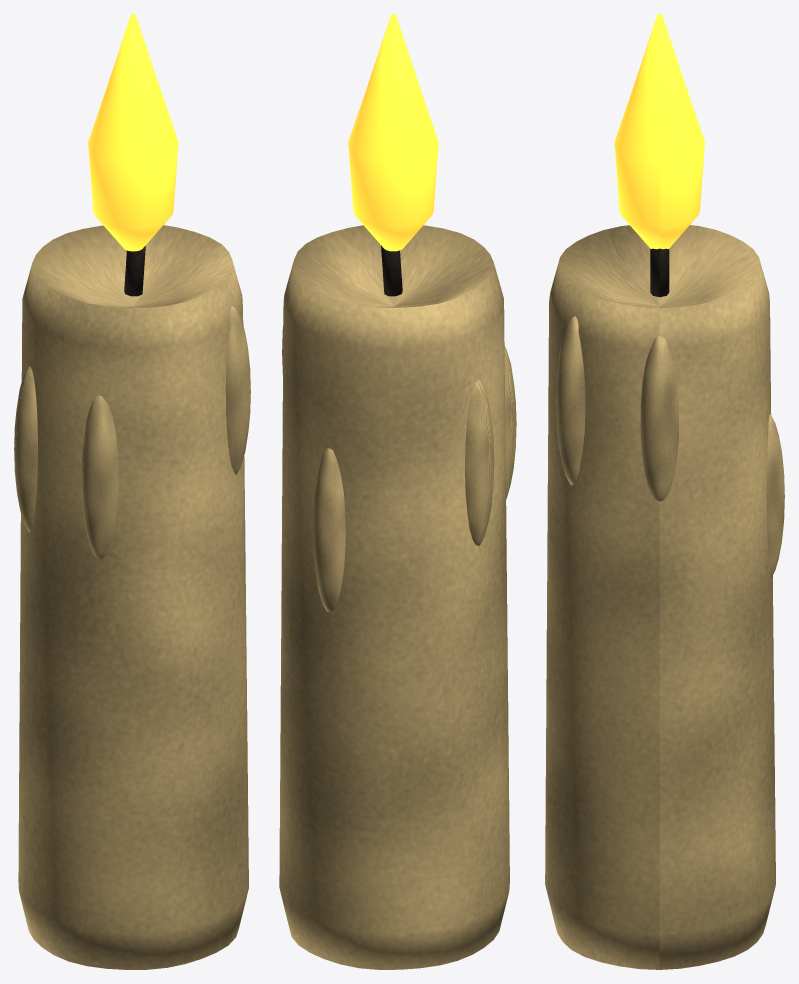
The model's file is candle_lit.glb.
The picture shows the model from 3 angles, left to right: view 1: azimuth 30°, elevation 25°; view 2: azimuth 150°, elevation 25°; view 3: azimuth 270°, elevation 25°; orthographic projection.
Visible parts, largest first — view 1: wax, flame, wick; view 2: wax, flame, wick; view 3: wax, flame, wick.
Part boxes in pixels (x1=…): wax: x1=14, y1=225, x2=250, y2=969; flame: x1=88, y1=14, x2=178, y2=251; wick: x1=124, y1=245, x2=145, y2=296; wax: x1=279, y1=225, x2=516, y2=969; flame: x1=348, y1=14, x2=438, y2=251; wick: x1=381, y1=245, x2=402, y2=296; wax: x1=545, y1=225, x2=784, y2=969; flame: x1=614, y1=14, x2=704, y2=249; wick: x1=650, y1=248, x2=669, y2=297.
Bounding box in the file's own units: 0.0497 × 0.2 × 0.0478.
Materials: 4 (4 with a texture image).
